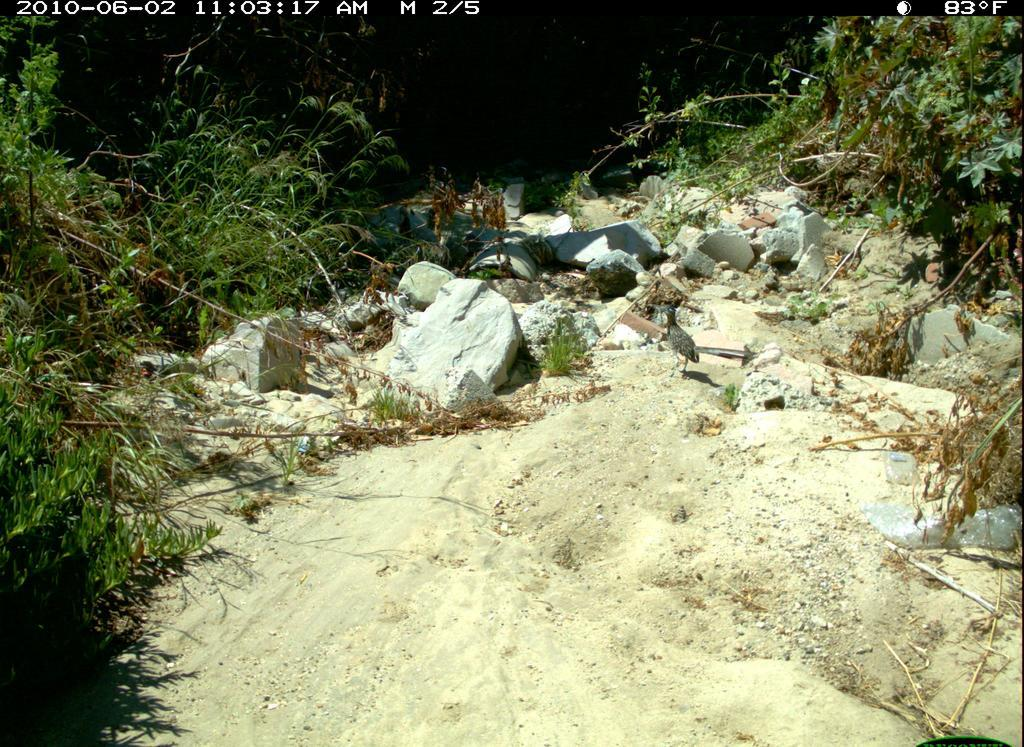bird: (645, 287, 711, 399)
